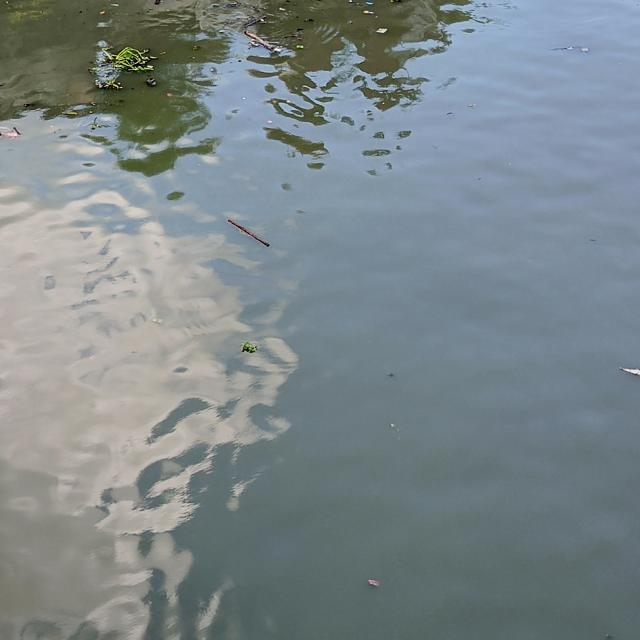Organic Debris: (80, 28, 178, 106), (229, 6, 314, 66), (208, 209, 288, 268), (217, 328, 271, 369)
Plastic: (602, 352, 640, 395), (359, 564, 393, 602), (366, 23, 396, 41), (358, 10, 376, 17)
